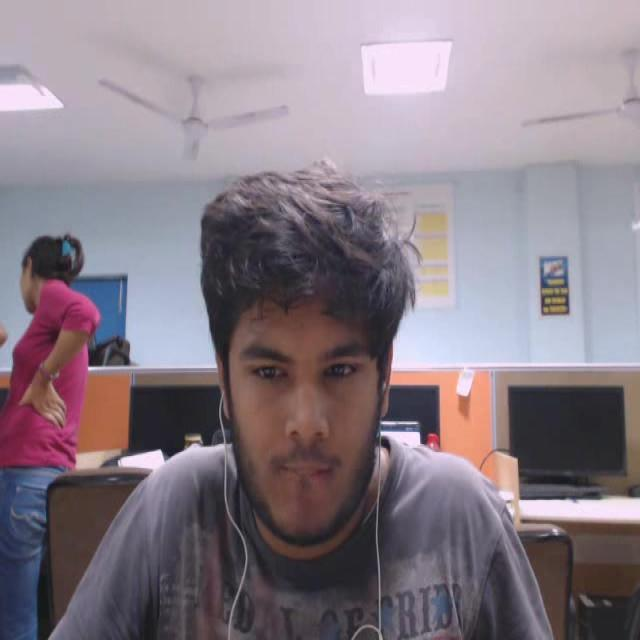Engaged: (169, 130, 439, 566)
